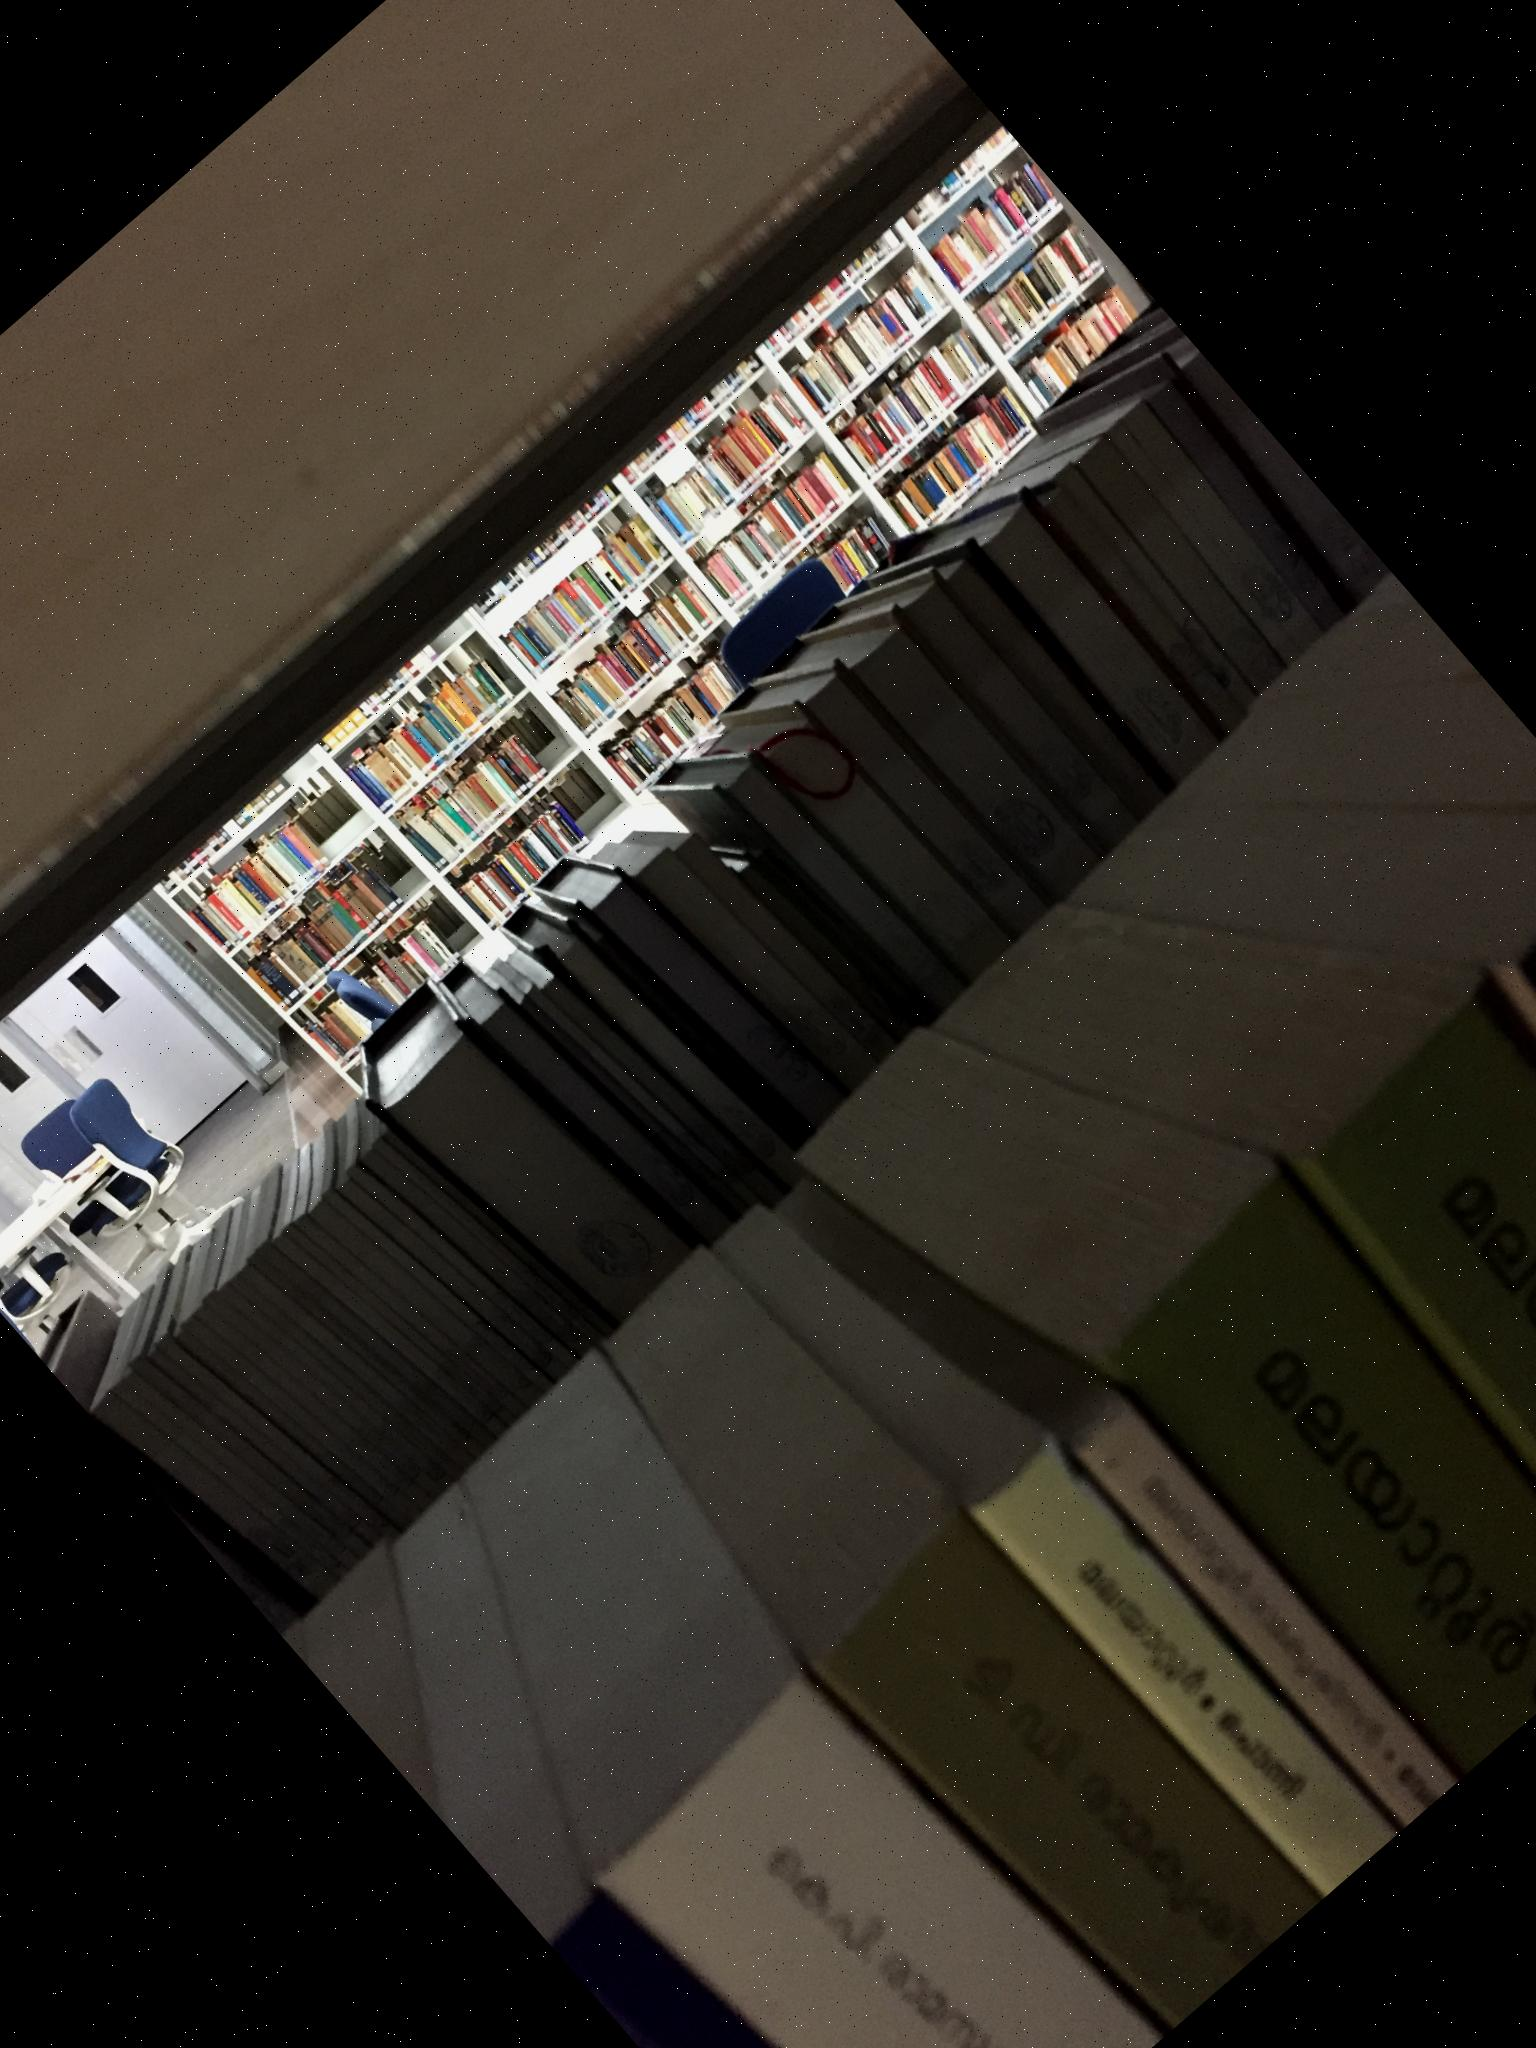chair: (15, 1063, 239, 1290), (671, 527, 892, 747), (0, 1172, 119, 1359), (302, 922, 442, 1063), (15, 1100, 131, 1222)
